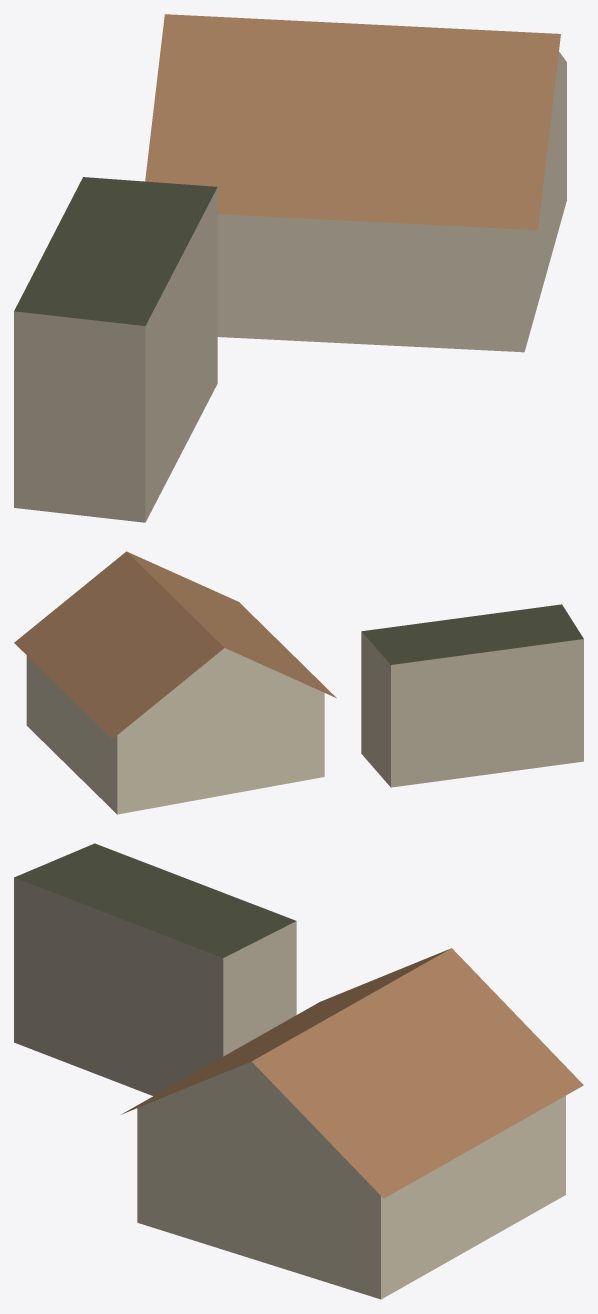
3 renders of one model, top to bottom at view 1: azimuth 30°, elevation 25°; view 2: azimuth 150°, elevation 25°; view 3: azimuth 270°, elevation 25°, orthographic. The views are drawn at different scales.
Visible parts, largest first — view 1: tuile; view 2: tuile; view 3: tuile.
Part boxes in pixels (x1=…): tuile: x1=14, y1=14, x2=566, y2=522; tuile: x1=14, y1=551, x2=583, y2=814; tuile: x1=14, y1=843, x2=583, y2=1299.
Size of the model in its own units: 19.59 by 6.29 by 15.52.
